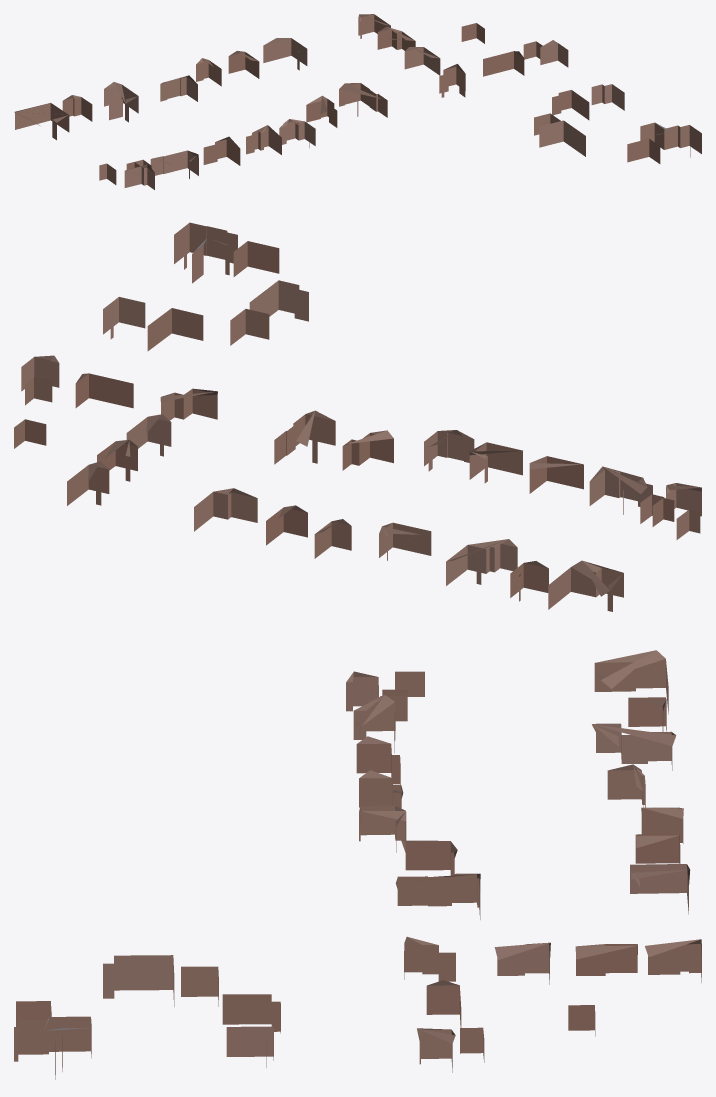
Rendered from c_1643_17830_buildings_residential.glb.
3 views of the same model, one above another, from view 1: azimuth 30°, elevation 25°; view 2: azimuth 150°, elevation 25°; view 3: azimuth 270°, elevation 25° (orthographic). The views are drawn at different scales.
Visible parts, largest first — view 1: geometry_0; view 2: geometry_0; view 3: geometry_0.
Boxes of the visible parts, x1=… form: geometry_0: x1=14, y1=14, x2=701, y2=189; geometry_0: x1=14, y1=222, x2=701, y2=611; geometry_0: x1=14, y1=650, x2=701, y2=1079.
Bounding box in the file's own units: 269 × 11.08 × 196.
